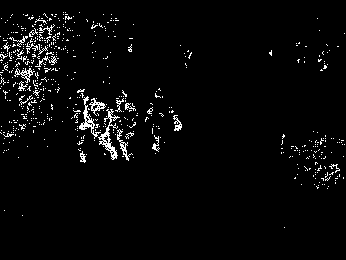person: (145, 88, 182, 154), (80, 95, 114, 158), (110, 89, 136, 158)
